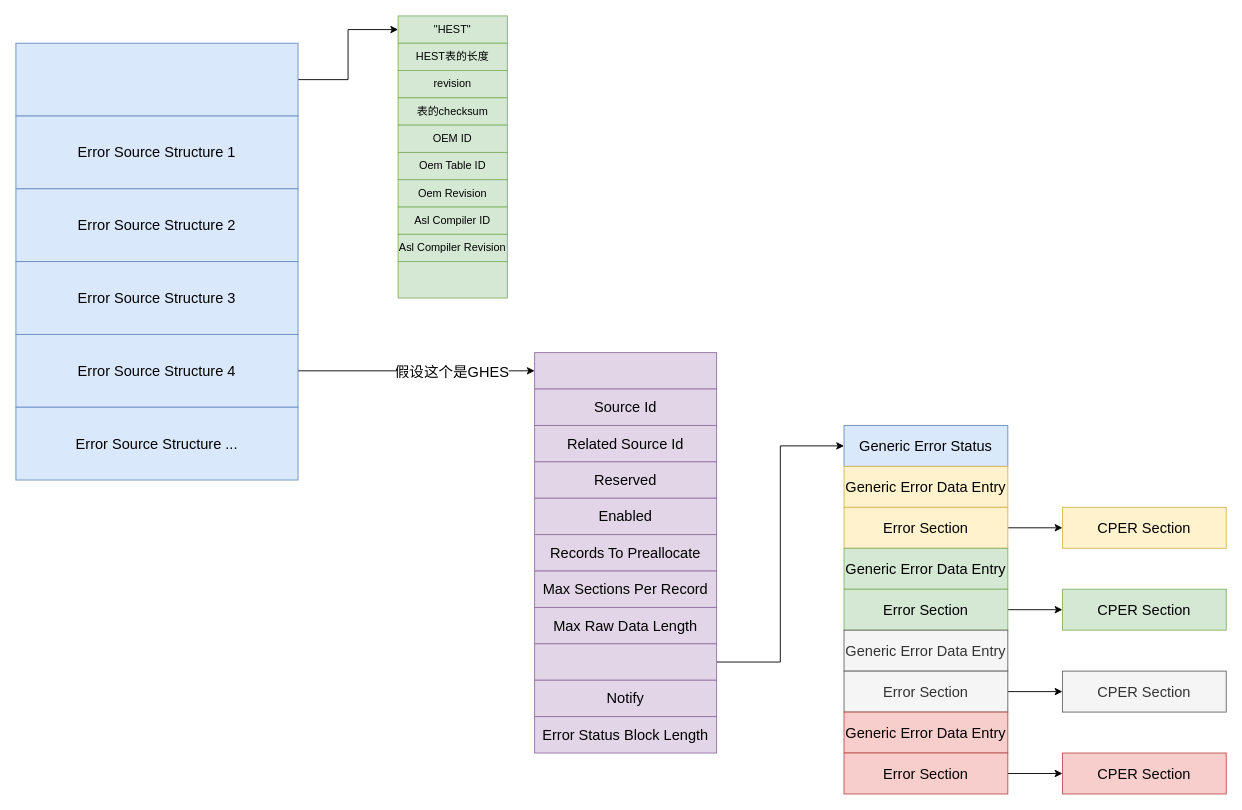
This 1242x810 diagram has some shape labels left out. The shapes that lost their labels are listed below. From the top down, each one's centre as x and y in pixels, then its label:
point 156,79: HEST头部
point 452,279: Error Source Structure的数量
point 625,370: Subtable Type(9)
point 625,661: Error Status Address
